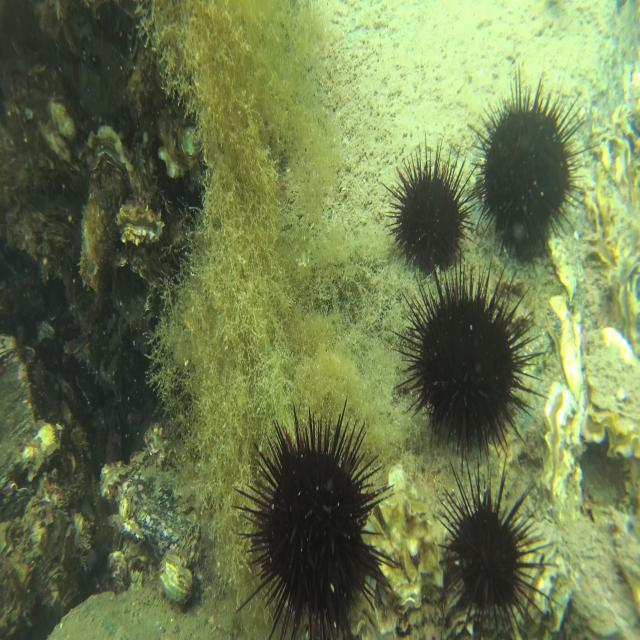echinus: (240, 399, 396, 640), (396, 266, 547, 455), (436, 457, 560, 640), (477, 74, 583, 259), (387, 141, 479, 271)
